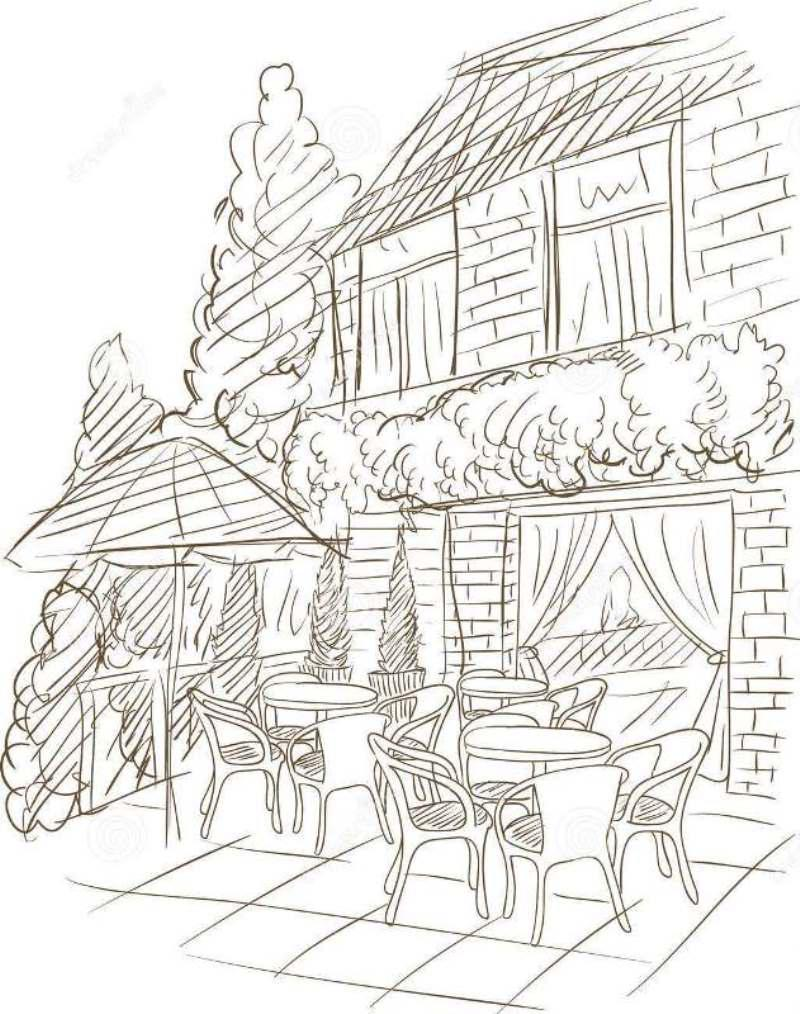chair: (494, 762, 642, 943), (361, 728, 493, 924), (600, 724, 721, 898), (283, 711, 399, 853), (180, 686, 287, 834), (377, 679, 458, 807)
